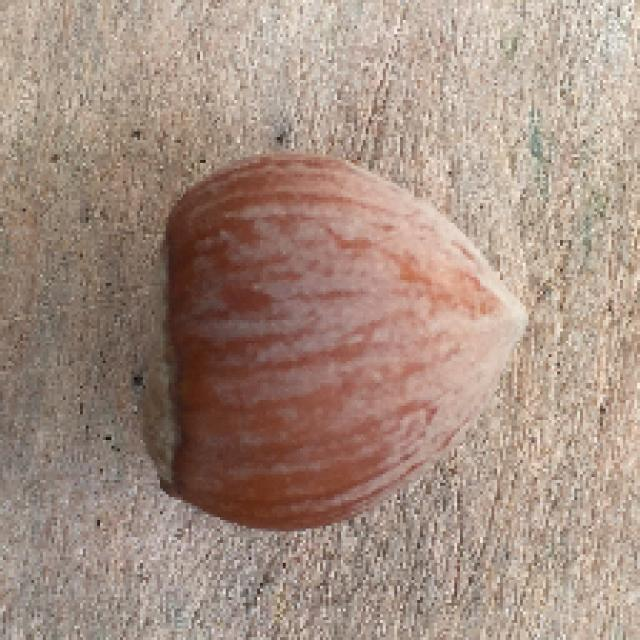QualityHazelnut: (132, 151, 530, 539)
